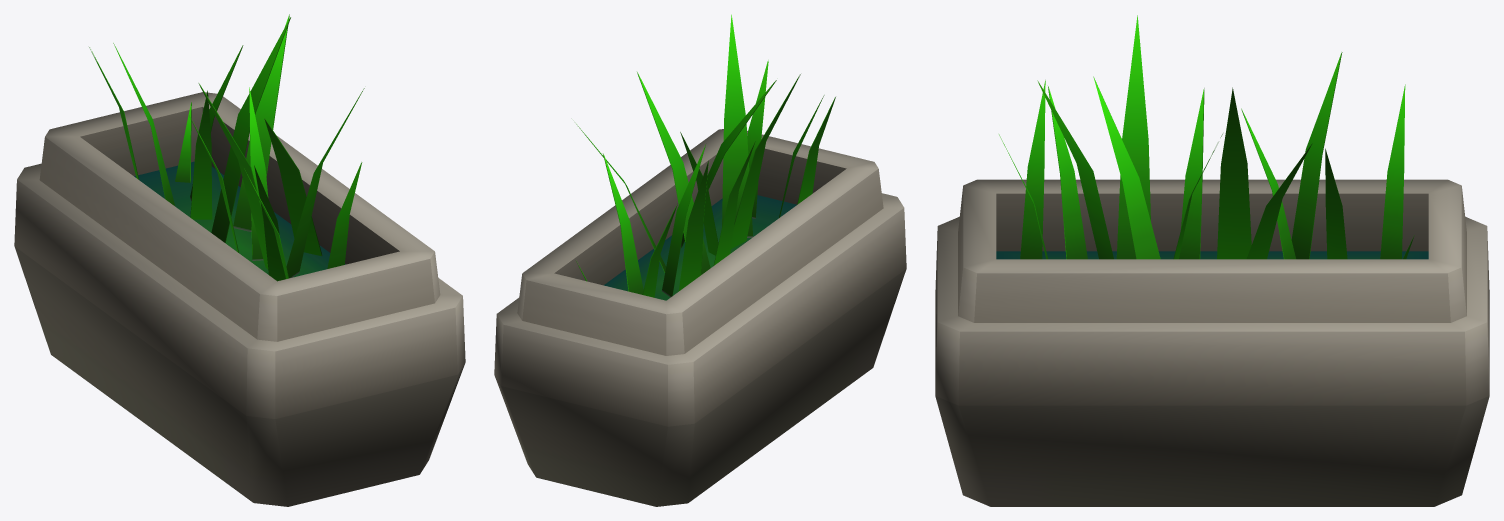
Rendered from Plant_Pot_1B.fbx.
The picture shows the model from 3 angles, left to right: view 1: azimuth 30°, elevation 25°; view 2: azimuth 150°, elevation 25°; view 3: azimuth 270°, elevation 25°; orthographic projection. The views are drawn at different scales.
Parts seen in each view (by area): view 1: Plant_Pot_1B; view 2: Plant_Pot_1B; view 3: Plant_Pot_1B.
Boxes of the visible parts, left/top/right/bottom form: Plant_Pot_1B: left=14, top=14, right=465, bottom=506; Plant_Pot_1B: left=494, top=14, right=906, bottom=506; Plant_Pot_1B: left=935, top=15, right=1489, bottom=506.
Bounding box in the file's own units: 100 × 161 × 200.
